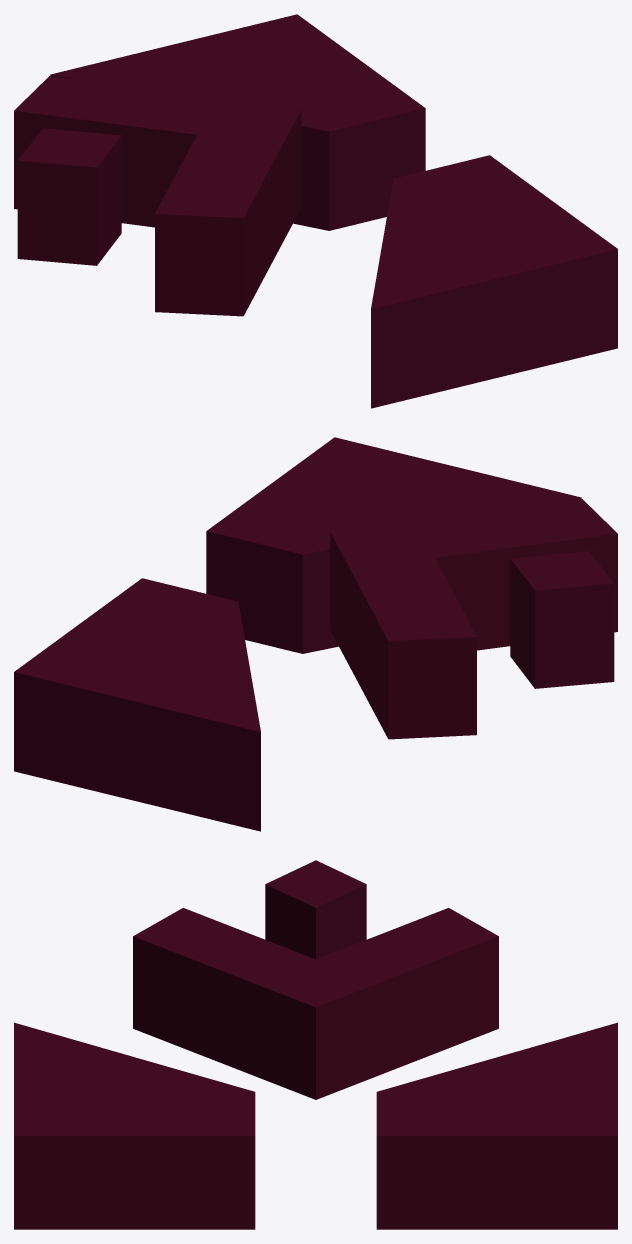
Rendered from sym_temple.fbx.
The picture shows the model from 3 angles, top to bottom: view 1: azimuth 30°, elevation 25°; view 2: azimuth 150°, elevation 25°; view 3: azimuth 270°, elevation 25°; orthographic projection. The views are drawn at different scales.
Parts seen in each view (by area): view 1: Temple; view 2: Temple; view 3: Temple.
Part boxes in pixels (left/top/right/bottom): Temple: left=14, top=14, right=617, bottom=408; Temple: left=14, top=437, right=617, bottom=831; Temple: left=14, top=860, right=617, bottom=1229.
Bounding box in the file's own units: 307 × 118 × 387.
